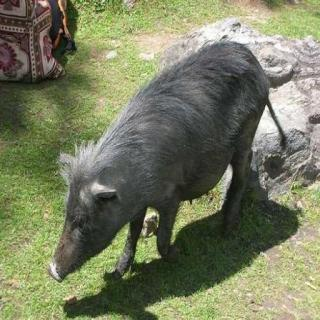Pig: (25, 41, 306, 296)
